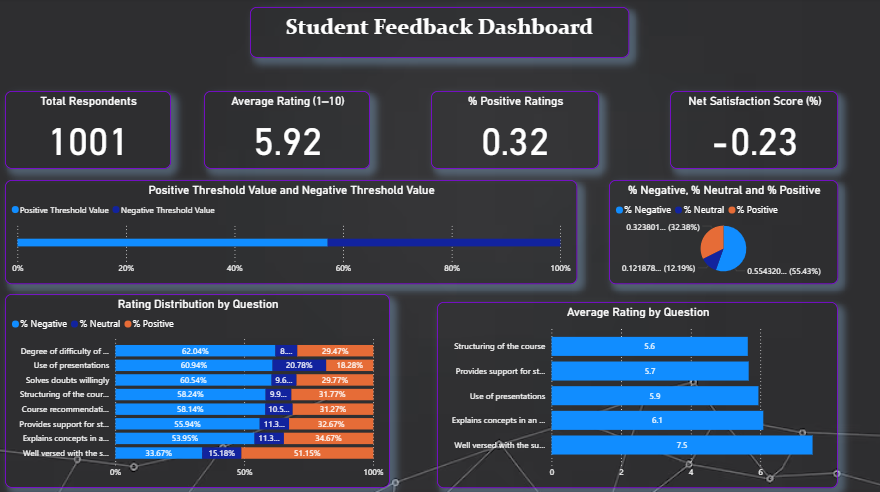

The dashboard page shown, as its layout file describes it:
{"tool":"powerbi","page":{"name":"tuent Feedback","canvas":[1280,720],"ordinal":0},"visuals":[{"type":"clusteredBarChart","title":"Average Rating by Question","fields":{"Category":["Feedback.Question"],"Y":["measure.Question Average"]},"box":[635,437.8,577.4,267.8],"z":2000},{"type":"hundredPercentStackedBarChart","title":"Rating Distribution by Question","fields":{"Category":["Feedback.Question"],"Y":["measure.% Negative","measure.% Neutral","measure.% Positive"]},"box":[13,426.2,554.4,279.4],"z":3000},{"type":"card","title":"Average Rating (1–10)","fields":{"Values":["measure.Average Rating"]},"box":[299.5,133.9,239,112.3],"z":4000},{"type":"card","title":"Net Satisfaction Score (%)","fields":{"Values":["measure.Net Satisfaction %"]},"box":[970.6,133.9,241.9,112.3],"z":5000},{"type":"card","title":"% Positive Ratings","fields":{"Values":["measure.% Positive"]},"box":[626.4,133.9,241.9,112.3],"z":6000},{"type":"card","title":"Total Respondents","fields":{"Values":["measure.Total Students"]},"box":[13,133.9,239,112.3],"z":7000},{"type":"textbox","box":[365.8,13,545.8,73.4],"z":8000},{"type":"hundredPercentStackedBarChart","fields":{"Y":["Positive Threshold.Positive Threshold Value","Negative Threshold.Negative Threshold Value"]},"box":[13,262.1,823.7,149.8],"z":9002},{"type":"pieChart","fields":{"Y":["measure.% Negative","measure.% Neutral","measure.% Positive"]},"box":[882.7,262.1,329.8,149.8],"z":9003}]}

Visuals, with their boxes in screenshot pixels (x1, y1, x2, y2), scaled from the page's 1280x720 canvas onto the 880x492 screenshot:
"Average Rating by Question" clusteredBarChart: (left=437, top=299, right=834, bottom=482)
"Rating Distribution by Question" hundredPercentStackedBarChart: (left=9, top=291, right=390, bottom=482)
"Average Rating (1–10)" card: (left=206, top=91, right=370, bottom=168)
"Net Satisfaction Score (%)" card: (left=667, top=91, right=834, bottom=168)
"% Positive Ratings" card: (left=431, top=91, right=597, bottom=168)
"Total Respondents" card: (left=9, top=91, right=173, bottom=168)
textbox: (left=251, top=9, right=627, bottom=59)
hundredPercentStackedBarChart - Positive Threshold.Positive Threshold Value x Negative Threshold.Negative Threshold Value: (left=9, top=179, right=575, bottom=281)
pieChart - measure.% Negative x measure.% Neutral: (left=607, top=179, right=834, bottom=281)
